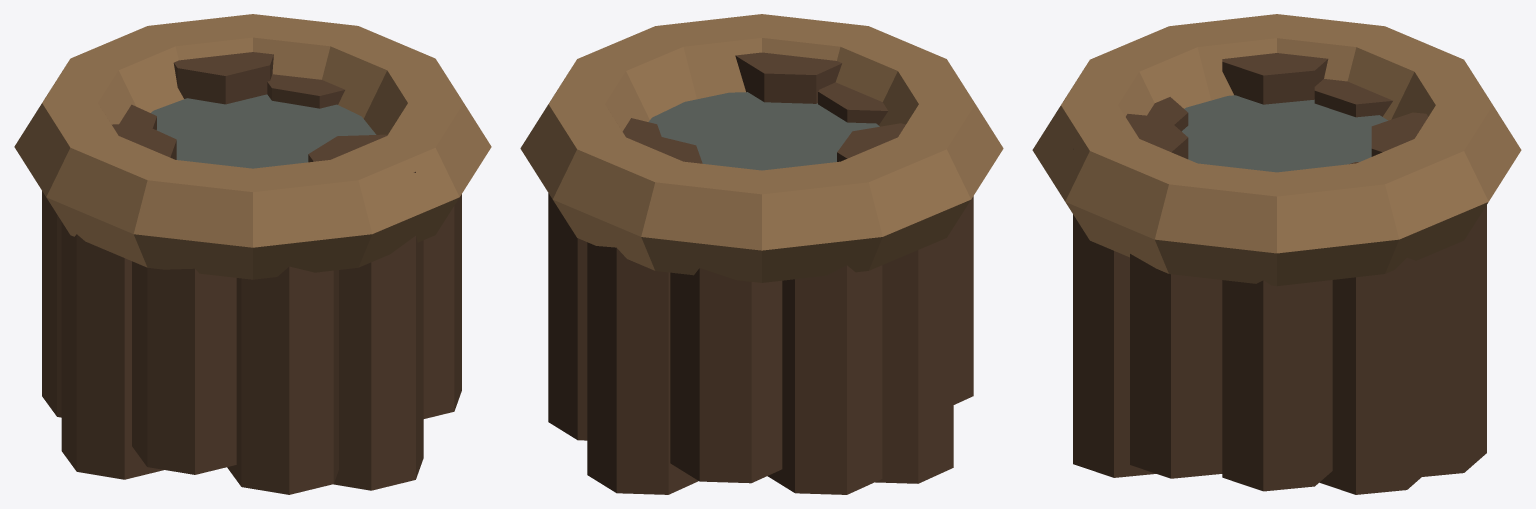
File: SM_MistForestHollowStump_A.glb
3 views of the same model, side by side, from view 1: azimuth 30°, elevation 25°; view 2: azimuth 150°, elevation 25°; view 3: azimuth 270°, elevation 25° (orthographic). The views are drawn at different scales.
Visible parts, largest first — view 1: SM_MistForestHollowStump_A; view 2: SM_MistForestHollowStump_A; view 3: SM_MistForestHollowStump_A.
Part boxes in pixels (x1,y1,x2,y2): SM_MistForestHollowStump_A: (14,14,491,494); SM_MistForestHollowStump_A: (520,14,1003,494); SM_MistForestHollowStump_A: (1032,14,1521,494).
Bounding box in the file's own units: 2.74 × 2.02 × 2.74.
